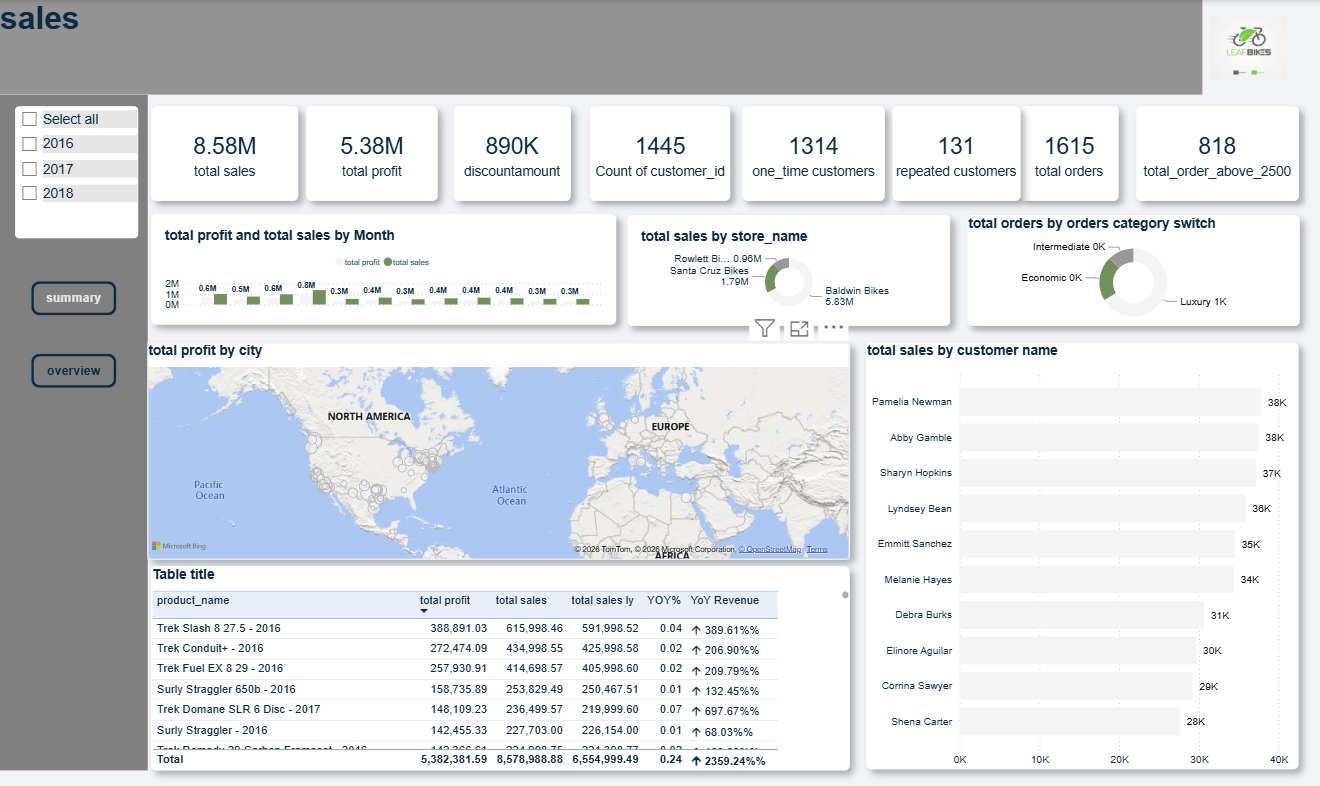

What the dashboard file says about the page in this screenshot:
{"tool":"powerbi","page":{"name":"summary","canvas":[1600,950],"ordinal":0},"visuals":[{"type":"textbox","box":[0,111.5,173.7,793.3],"z":0},{"type":"textbox","box":[0,0,1413,111.5],"z":1000},{"type":"card","fields":{"Values":["order_items.total sales"]},"box":[178.3,125,173,111],"z":2000},{"type":"card","fields":{"Values":["order_items.total profit"]},"box":[360.2,124.4,154.4,111.5],"z":3000},{"type":"card","fields":{"Values":["CountNonNull(customers.customer_id)"]},"box":[692.5,124.4,165.1,111.5],"z":4000},{"type":"card","fields":{"Values":["orders.total orders"]},"box":[1198.5,124.4,115.8,111.5],"z":5000},{"type":"card","fields":{"Values":["order_items.discountamount"]},"box":[533.9,124.4,137.2,111.5],"z":6000},{"type":"clusteredColumnChart","fields":{"Category":["orders.order_date.Variation.Date Hierarchy.Year","orders.order_date.Variation.Date Hierarchy.Month"],"Y":["order_items.total profit","order_items.total sales"]},"box":[178,250.9,546.7,130.8],"z":7000},{"type":"card","fields":{"Values":["orders.total_order_above_2500"]},"box":[1335.8,124.4,190.8,111.5],"z":8000},{"type":"card","fields":{"Values":["orders.one_time customers"]},"box":[872.6,124.4,167.2,111.5],"z":9000},{"type":"card","fields":{"Values":["orders.repeated customers"]},"box":[1048.5,124.4,150.1,111.5],"z":10000},{"type":"donutChart","fields":{"Y":["order_items.total sales"],"Category":["stores.store_name"]},"box":[737.6,253,379.5,130.8],"z":11000},{"type":"slicer","fields":{"Values":["orders.order_date.Variation.Date Hierarchy.Year"]},"box":[18.3,125,145,155],"z":12000},{"type":"image","box":[1406.5,0,120.1,111.5],"z":13000},{"type":"actionButton","box":[37,331,100,40],"z":14000},{"type":"actionButton","box":[37,416,100,40],"z":15000},{"type":"donutChart","fields":{"Category":["orders.orders category switch"],"Y":["orders.total orders"]},"box":[1136.4,253,390.2,130.8],"z":16000},{"type":"map","fields":{"Category":["customers.city"],"Size":["order_items.total profit"]},"box":[173.7,403.1,825.5,255.1],"z":17000},{"type":"barChart","fields":{"Category":["customers.customer name"],"Y":["order_items.total sales"]},"box":[1018.4,403.1,508.1,501.7],"z":18000},{"type":"tableEx","fields":{"Values":["products.product_name","order_items.total profit","order_items.total sales","order_items.total sales ly","order_items.YOY%","order_items.YoY Revenue"]},"box":[178,664.7,821.2,240.1],"z":19000}]}

Visuals, with their boxes in screenshot pixels (x1, y1, x2, y2), scaled from the page's 1600x950 canvas onto the 1320x786 screenshot:
textbox: l=0, t=92, r=143, b=749
textbox: l=0, t=0, r=1166, b=92
card - order_items.total sales: l=147, t=103, r=290, b=195
card - order_items.total profit: l=297, t=103, r=425, b=195
card - CountNonNull(customers.customer_id): l=571, t=103, r=708, b=195
card - orders.total orders: l=989, t=103, r=1084, b=195
card - order_items.discountamount: l=440, t=103, r=554, b=195
clusteredColumnChart - orders.order_date.Variation.Date Hierarchy.Year x orders.order_date.Variation.Date Hierarchy.Month: l=147, t=208, r=598, b=316
card - orders.total_order_above_2500: l=1102, t=103, r=1259, b=195
card - orders.one_time customers: l=720, t=103, r=858, b=195
card - orders.repeated customers: l=865, t=103, r=989, b=195
donutChart - order_items.total sales x stores.store_name: l=609, t=209, r=922, b=318
slicer - orders.order_date.Variation.Date Hierarchy.Year: l=15, t=103, r=135, b=232
image: l=1160, t=0, r=1259, b=92
actionButton: l=31, t=274, r=113, b=307
actionButton: l=31, t=344, r=113, b=377
donutChart - orders.orders category switch x orders.total orders: l=938, t=209, r=1259, b=318
map - customers.city x order_items.total profit: l=143, t=334, r=824, b=545
barChart - customers.customer name x order_items.total sales: l=840, t=334, r=1259, b=749
tableEx - products.product_name x order_items.total profit: l=147, t=550, r=824, b=749
